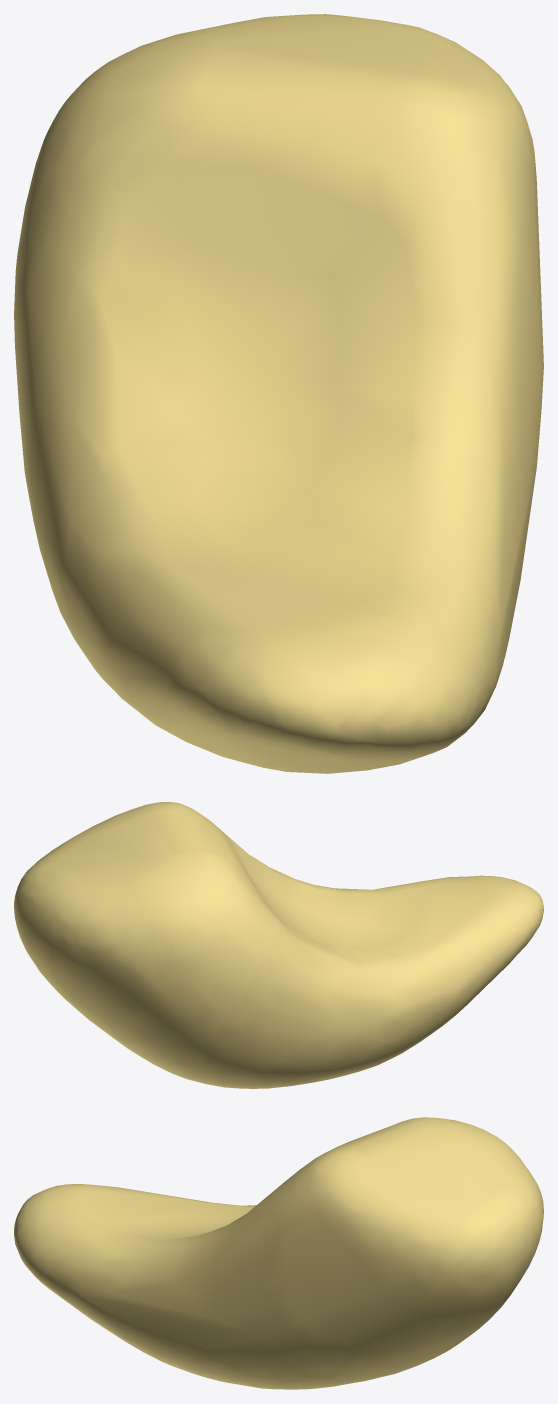
The model's file is fma73303.glb.
3 views of the same model, one above another, from view 1: azimuth 30°, elevation 25°; view 2: azimuth 150°, elevation 25°; view 3: azimuth 270°, elevation 25° (orthographic). The views are drawn at different scales.
Parts seen in each view (by area): view 1: FMA73303; view 2: FMA73303; view 3: FMA73303.
Boxes of the visible parts, x1=… form: FMA73303: x1=14, y1=14, x2=543, y2=773; FMA73303: x1=14, y1=802, x2=543, y2=1088; FMA73303: x1=14, y1=1117, x2=543, y2=1389.
Bounding box in the file's own units: 0.00803 × 0.00614 × 0.0111.
